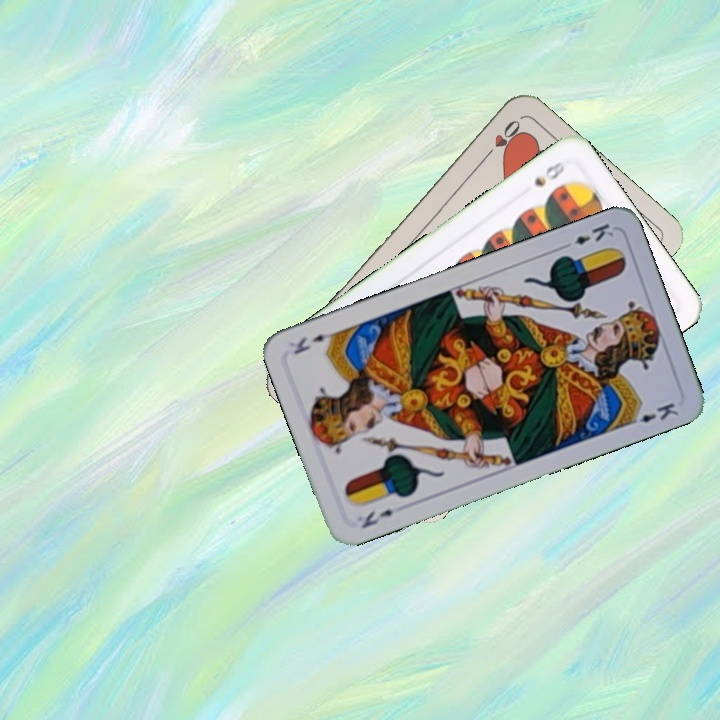EK: (558, 219, 617, 252), (357, 505, 396, 532)
HO: (479, 115, 524, 163)
S8: (529, 157, 567, 189)
